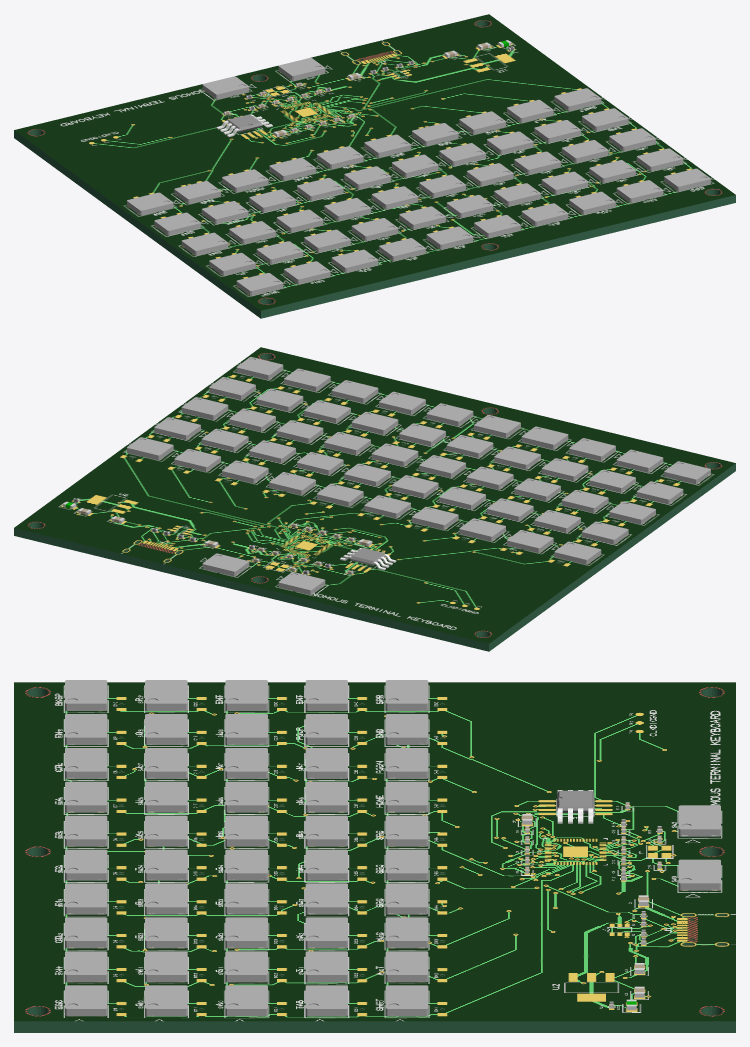
Rendered from board.glb.
3 views of the same model, one above another, from view 1: azimuth 30°, elevation 25°; view 2: azimuth 150°, elevation 25°; view 3: azimuth 270°, elevation 25° (orthographic). The views are drawn at different scales.
Visible parts, largest first — view 1: Box0, SW28, SW50, SW11, SW13, SW15, SW22, SW33, SW35, SW37, SW2, SW20 (+42 smaller); view 2: Box0, SW12, SW21, SW36, SW14, SW16, SW27, SW34, SW29, SW30, SW32, SW59 (+42 smaller); view 3: Box0, SW50, SW51, SW52, SW53, SW54, SW55, SW56, SW10, SW11, SW12, SW13 (+42 smaller).
Part boxes in pixels (bbox=[...]): Box0: bbox=[14, 14, 735, 318]; SW28: bbox=[256, 241, 303, 264]; SW50: bbox=[554, 88, 601, 111]; SW11: bbox=[616, 180, 663, 203]; SW13: bbox=[521, 203, 568, 226]; SW15: bbox=[426, 226, 473, 249]; SW22: bbox=[541, 171, 588, 194]; SW33: bbox=[466, 163, 513, 186]; SW35: bbox=[371, 186, 418, 209]; SW37: bbox=[276, 209, 323, 232]; SW2: bbox=[202, 76, 249, 99]; SW20: bbox=[636, 148, 683, 171]; Box0: bbox=[14, 347, 735, 651]; SW12: bbox=[331, 380, 378, 403]; SW21: bbox=[256, 388, 303, 411]; SW36: bbox=[466, 466, 513, 489]; SW14: bbox=[426, 403, 473, 426]; SW16: bbox=[521, 426, 568, 449]; SW27: bbox=[541, 458, 588, 481]; SW34: bbox=[371, 443, 418, 466]; SW29: bbox=[636, 481, 683, 504]; SW30: bbox=[181, 397, 228, 420]; SW32: bbox=[276, 420, 323, 443]; SW59: bbox=[554, 541, 601, 564]; Box0: bbox=[14, 682, 735, 1032]; SW50: bbox=[385, 985, 428, 1016]; SW51: bbox=[385, 951, 428, 982]; SW52: bbox=[385, 917, 428, 948]; SW53: bbox=[385, 883, 428, 914]; SW54: bbox=[385, 849, 428, 880]; SW55: bbox=[385, 815, 428, 846]; SW56: bbox=[385, 781, 428, 812]; SW10: bbox=[65, 985, 107, 1016]; SW11: bbox=[65, 951, 107, 982]; SW12: bbox=[65, 917, 107, 948]; SW13: bbox=[65, 883, 107, 914].
Size of the model in its own units: 100 by 2.88 by 90.
10 materials, 2 textured.
